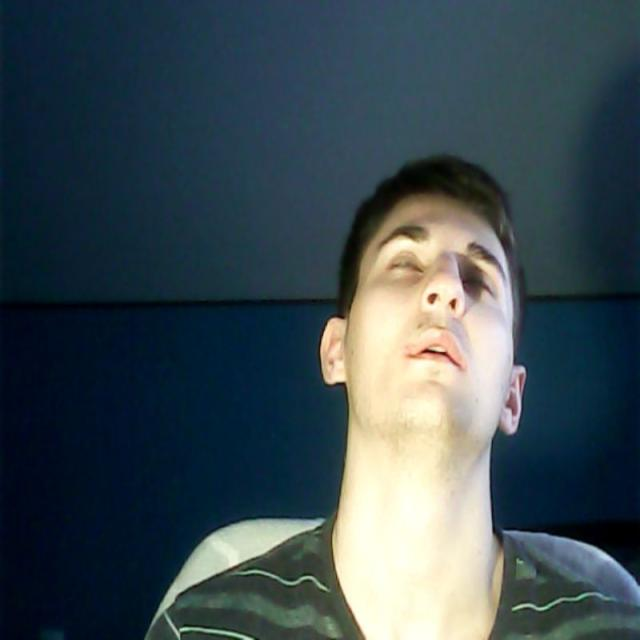Eyeclosed: (464, 264, 496, 304), (388, 250, 423, 282)
